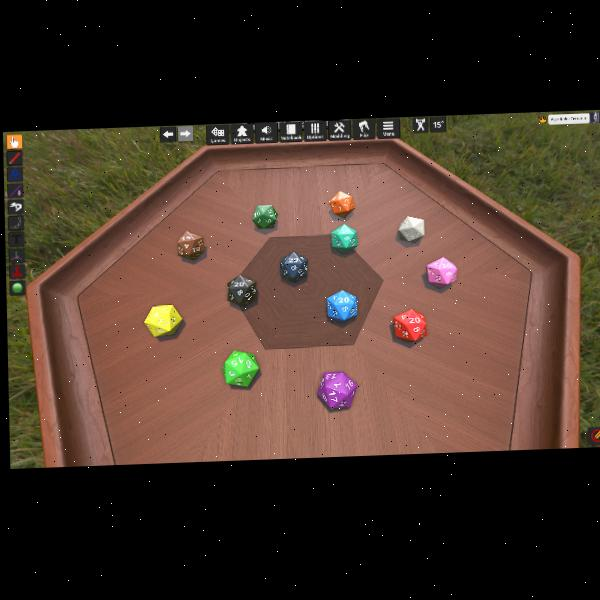d20: (317, 370, 357, 410), (222, 350, 260, 387), (144, 304, 183, 336), (392, 308, 423, 341), (226, 274, 257, 306), (327, 290, 357, 322), (426, 255, 455, 286), (176, 230, 205, 261), (279, 251, 307, 282), (331, 224, 356, 255), (329, 190, 353, 219), (400, 214, 425, 241), (251, 205, 277, 230)
